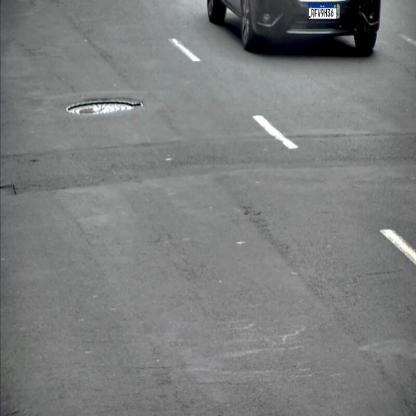PlacaM: (308, 3, 337, 20)
